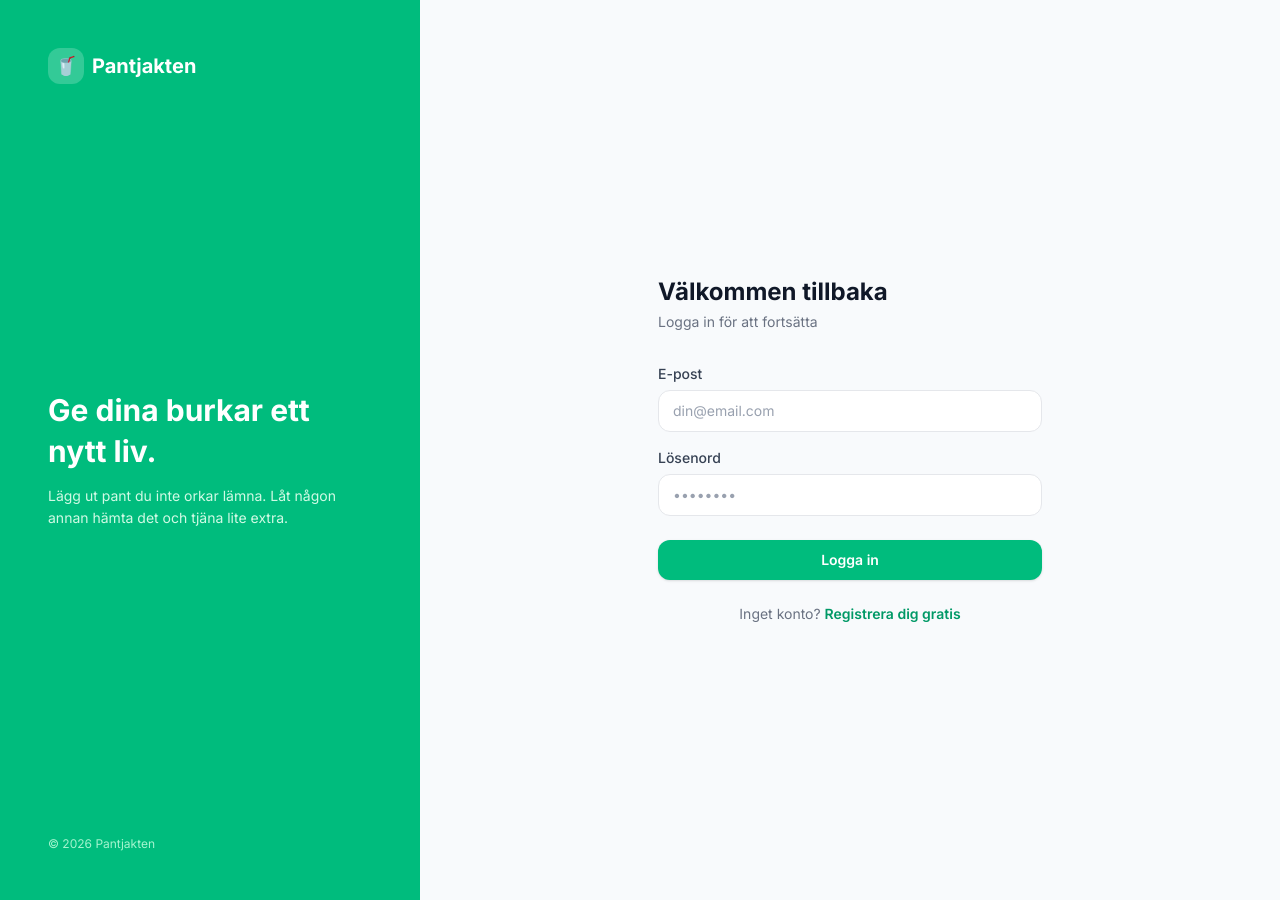
LoginPage › shows validation errors when submitted empty
The width and height of the screenshot is (1280, 900).
Click the button "Logga in" at (850,560), box left=658, top=540, right=1042, bottom=580
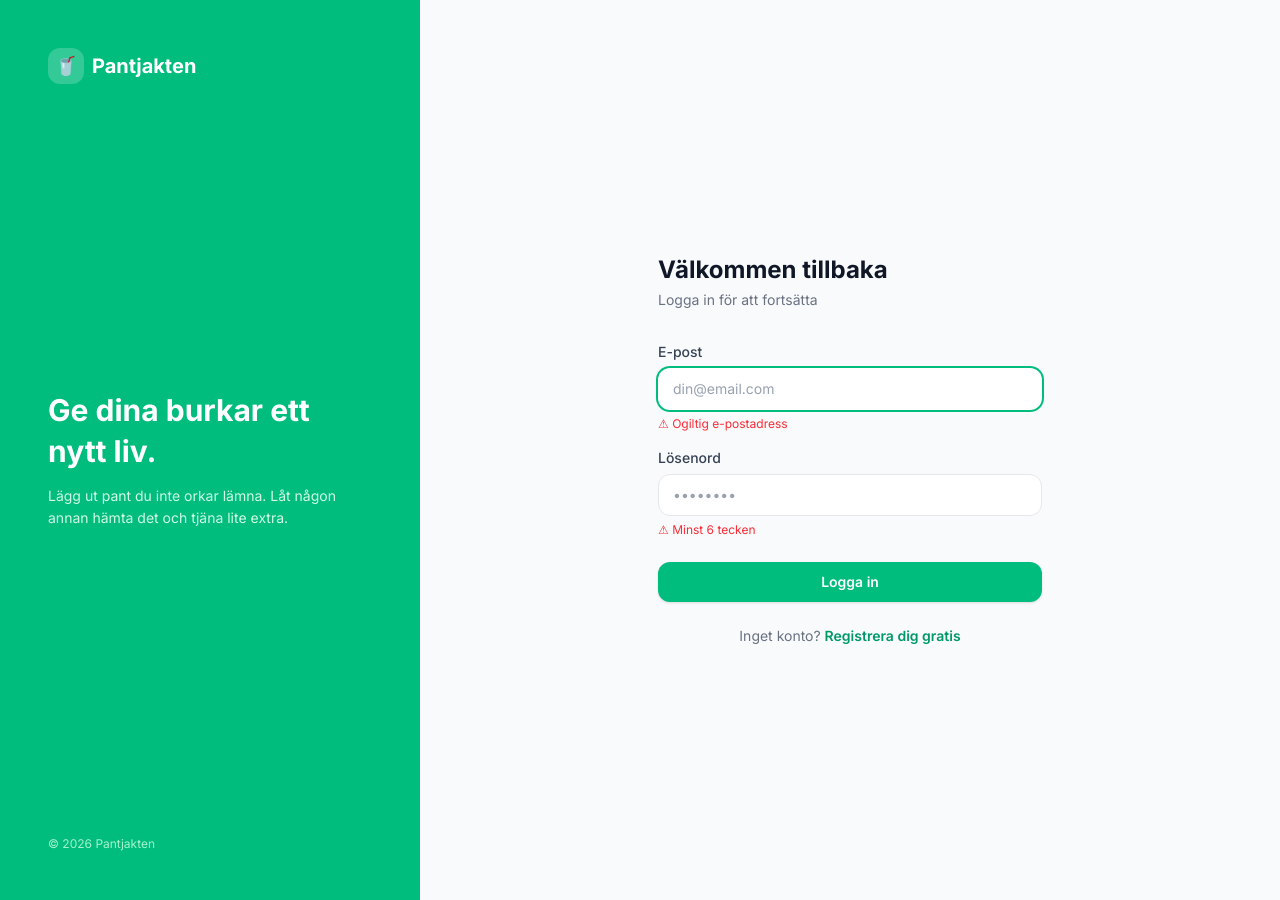
Expected: the text "⚠ Ogiltig e-postadress" is shown, left=658, top=416, right=788, bottom=431
